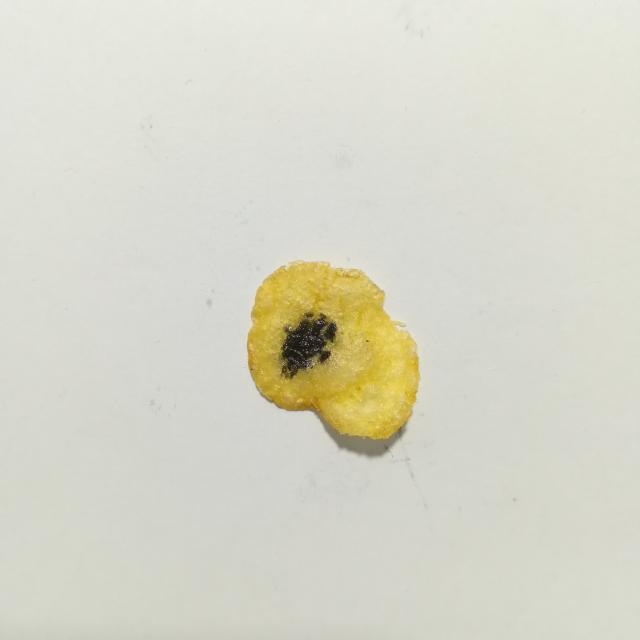chip: (247, 261, 420, 439)
damaged: (281, 311, 337, 378)
